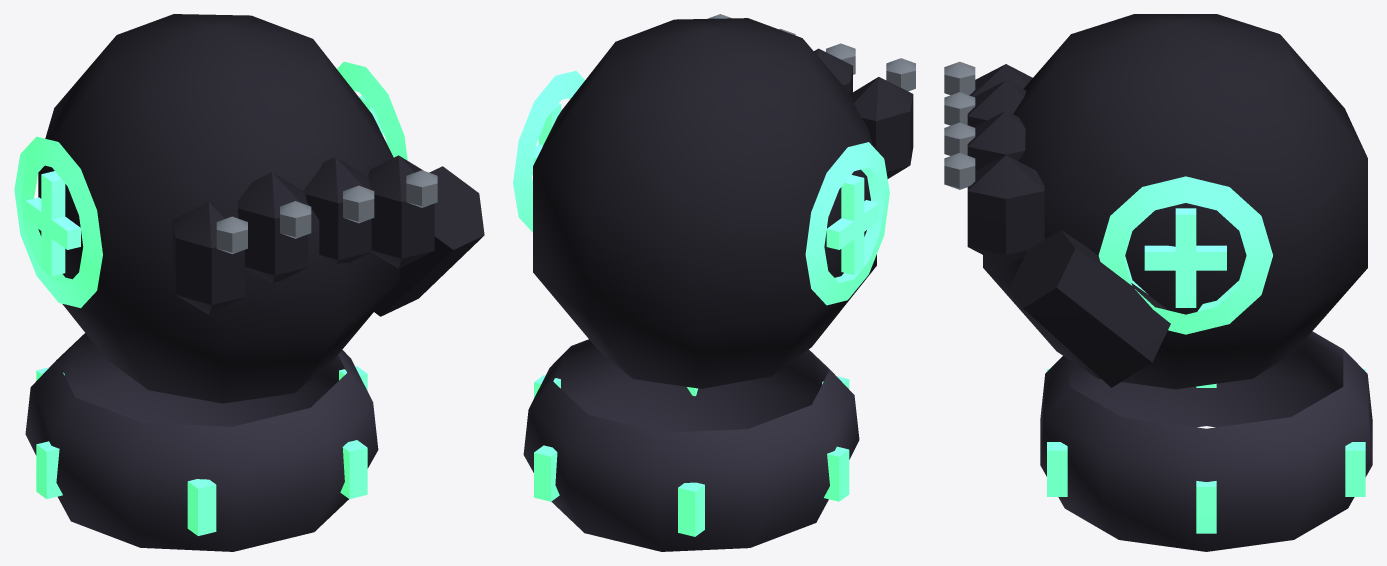
The model's file is seal-gloves-3.glb.
3 renders of one model, left to right at view 1: azimuth 30°, elevation 25°; view 2: azimuth 150°, elevation 25°; view 3: azimuth 270°, elevation 25°, orthographic. The views are drawn at different scales.
Visible parts, largest first — view 1: seal-gloves-3; view 2: seal-gloves-3; view 3: seal-gloves-3.
Part boxes in pixels (x1,y1,x2,y2): seal-gloves-3: (14, 14, 484, 551); seal-gloves-3: (513, 14, 915, 551); seal-gloves-3: (944, 14, 1372, 551).
Bounding box in the file's own units: 0.0812 × 0.1 × 0.0833.
